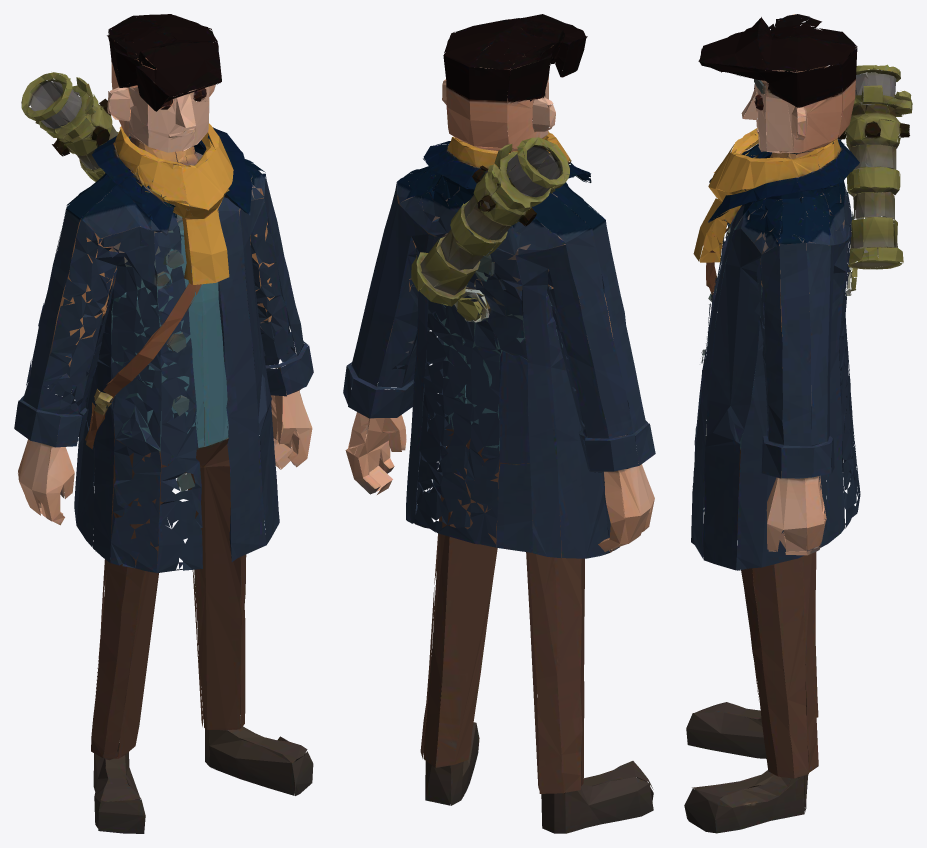
File: habitant.glb
3 views of the same model, side by side, from view 1: azimuth 30°, elevation 25°; view 2: azimuth 150°, elevation 25°; view 3: azimuth 270°, elevation 25° (orthographic). The views are drawn at different scales.
Visible parts, largest first — view 1: world; view 2: world; view 3: world.
Boxes of the visible parts, box(x1,y1,x2,y2) form: world: box(14, 14, 313, 833); world: box(343, 14, 655, 833); world: box(684, 14, 912, 833).
Bounding box in the file's own units: 0.392 × 0.9879 × 0.2738.
1 material, 1 textured.
